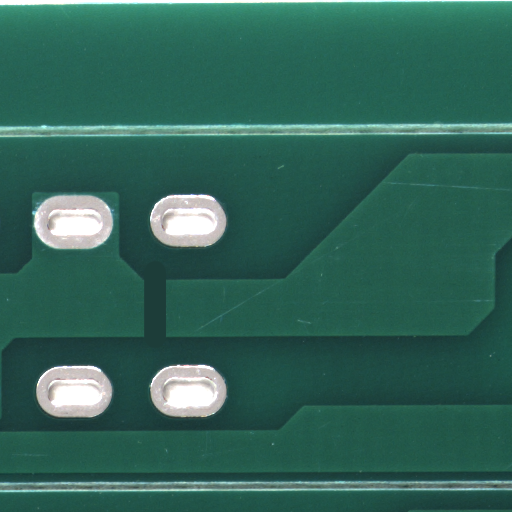Open_circuit: (156, 308, 184, 373)
